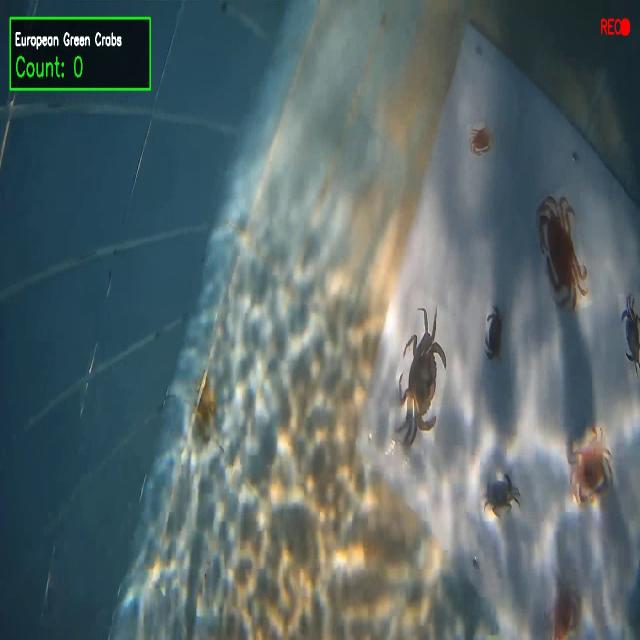European_Green_Crab: (386, 297, 457, 462), (618, 281, 639, 386), (482, 470, 523, 522)
